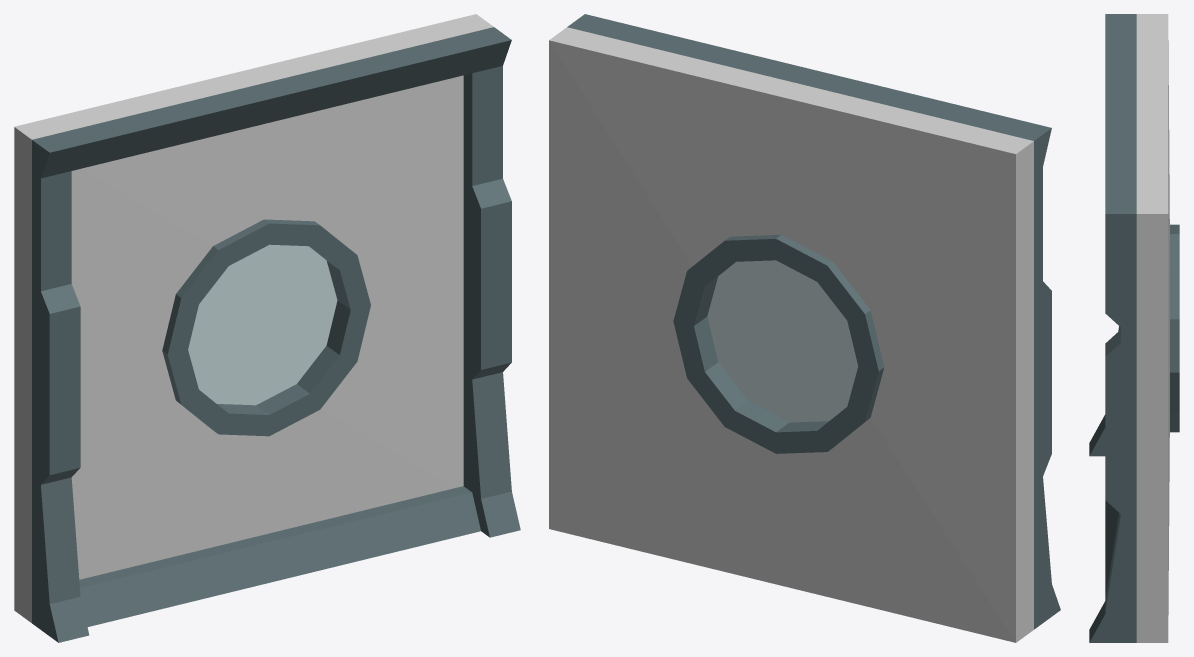
The model's file is scifi_wall_1sided_window_round.fbx.
3 views of the same model, side by side, from view 1: azimuth 30°, elevation 25°; view 2: azimuth 150°, elevation 25°; view 3: azimuth 270°, elevation 25° (orthographic). The views are drawn at different scales.
Parts seen in each view (by area): view 1: Circle.000; view 2: Circle.000; view 3: Circle.000.
Boxes of the visible parts, <box> form: Circle.000: <box>14,14,520,642</box>; Circle.000: <box>549,14,1060,642</box>; Circle.000: <box>1089,14,1179,642</box>.
Size of the model in its own units: 3 by 3 by 0.5716.
